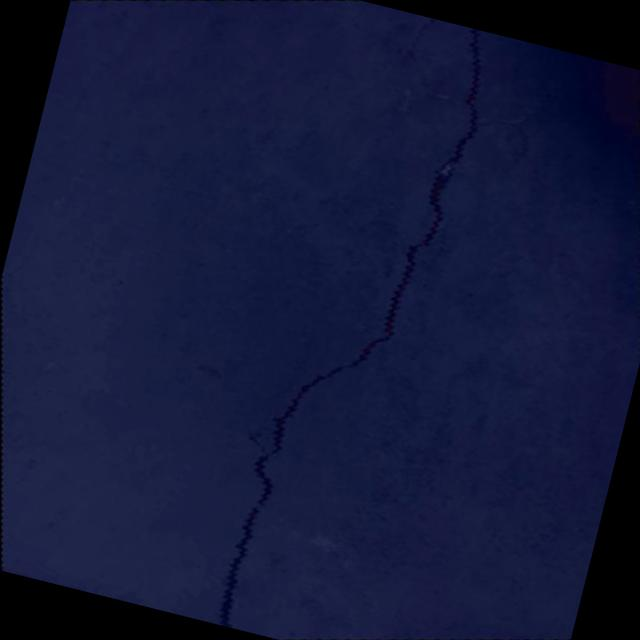crack: (72, 0, 631, 640), (328, 0, 417, 101), (384, 10, 471, 106)
